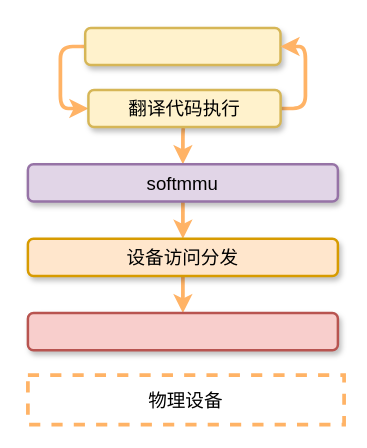
The diagram is 367 pixels wide and 448 high, and some of its shapes have lost their labels. The centre of each missing label's shape, as x and y in pixels:
Guest 代码翻译: the point at 183,47
修改 MMIO 偏移，直接访问设备: the point at 183,333
